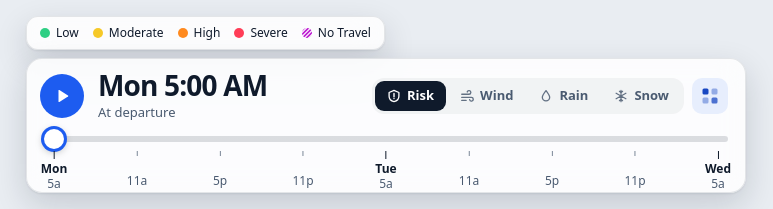
HeatmapBar touch swipe › steps the hour from a horizontal swipe on the clock and not from the slider or a vertical move
Later steps or results of the test are not shown.
Press the mouse on the element with test id "forecast-clock" at (183, 93), box [98, 66, 267, 121]
Check: the slider with test id "heatmap-slider" holds "0", box [44, 125, 728, 153]
Press the mouse on the element with test id "forecast-clock" at (183, 93), box [98, 66, 267, 121]
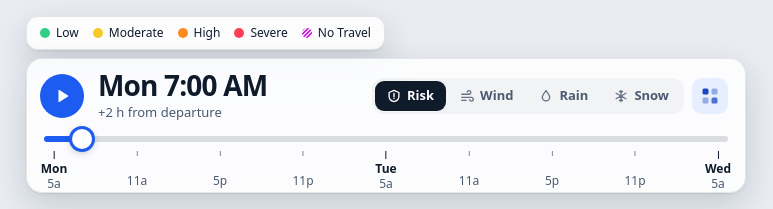
Check: the slider with test id "heatmap-slider" holds "2", box [44, 125, 728, 153]
